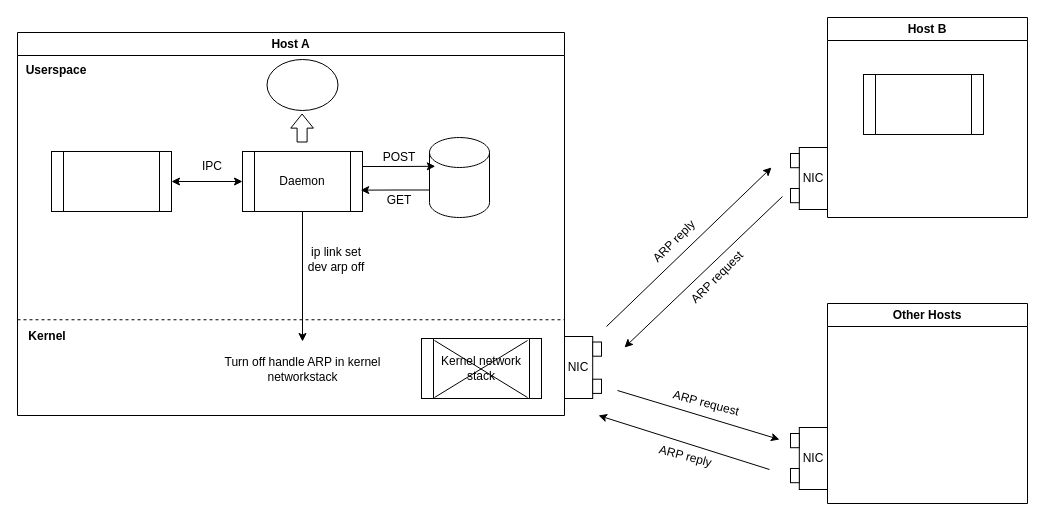
Image size: 1045x521. Some labels were removed from this diagram. The shapes that lost their labels are listed below. From the top down, each one's centre as x and y in pixels, then its label:
(302,84): Export ARP cache file
(923,104): CLI ping
(111,181): CLI
(459,177): ARP cache
